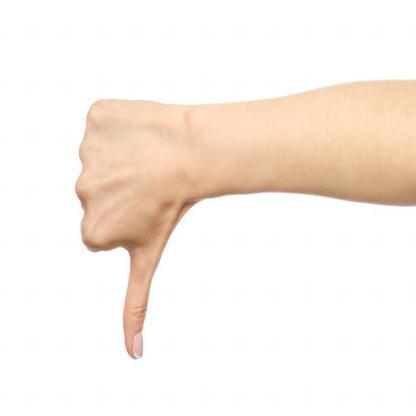thumb_down: (75, 94, 185, 363)
